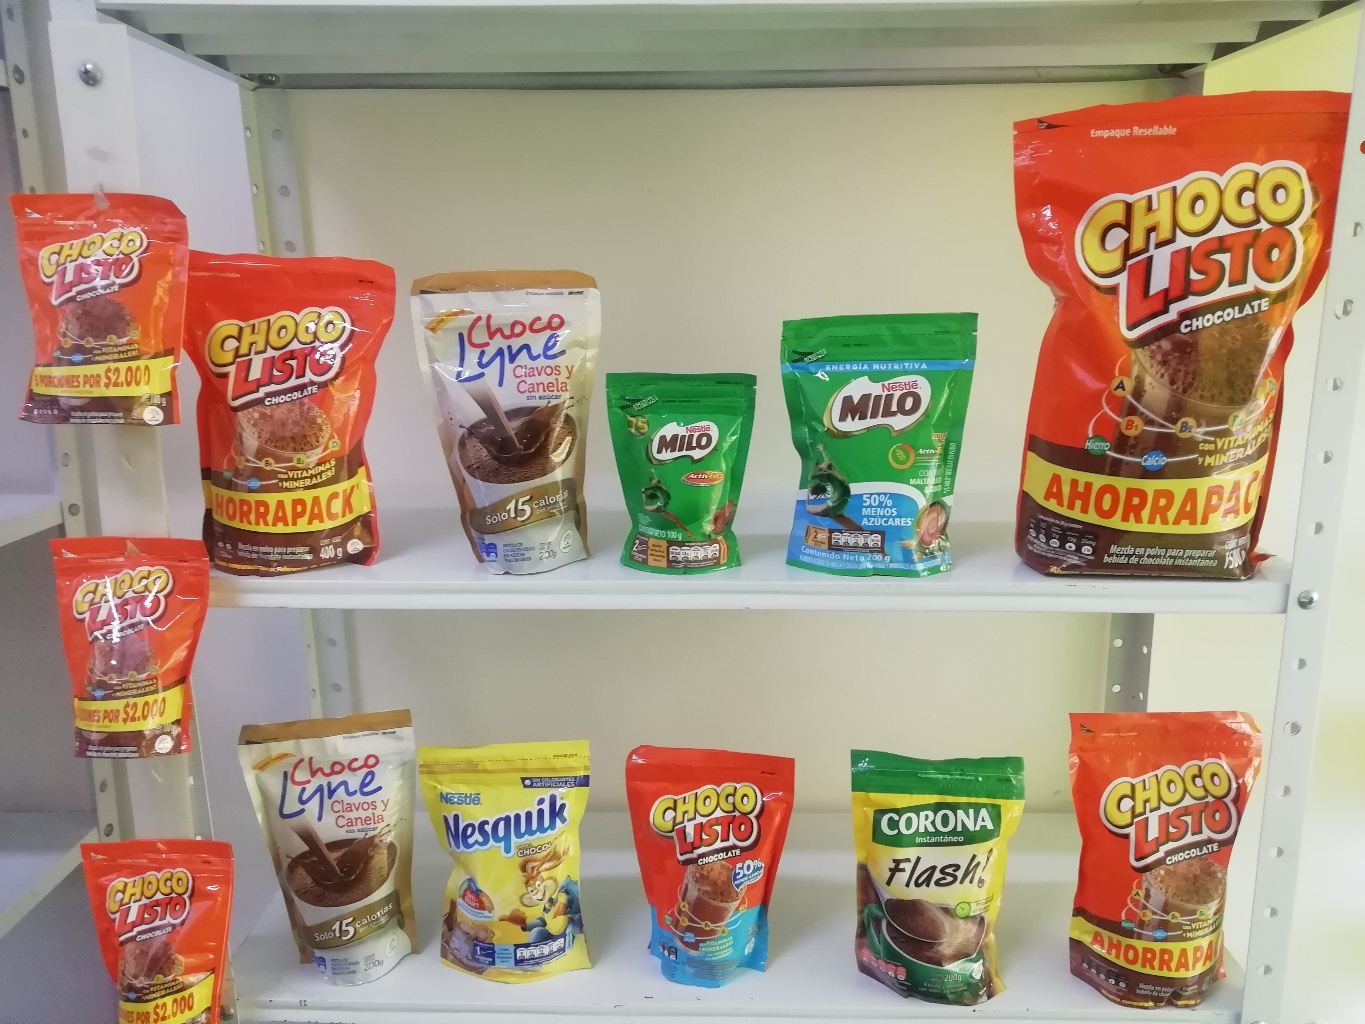COL0170103DYP1,500: (1013, 103, 1354, 582)
COL0170103DYP10000: (5, 186, 190, 427)
COL0170103DYP36000: (1062, 706, 1263, 1010)
COL0170103DYP40000: (175, 240, 400, 578)
COL0170104DYP20000: (618, 746, 798, 991)
COL0170203DYP10000: (605, 371, 756, 574)
COL0170205DYP20000: (776, 312, 976, 580)
COL0170303DYP20000: (417, 739, 605, 980)
